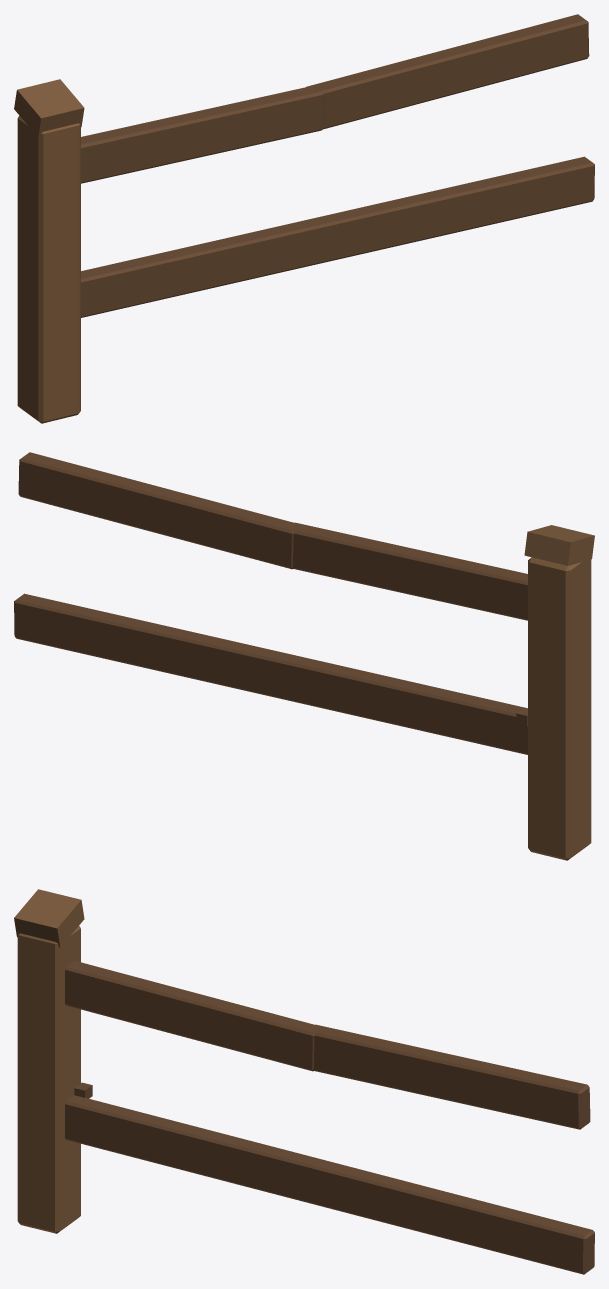
Rendered from SM_Fence_RusticRail_01_Straight.fbx.
The picture shows the model from 3 angles, top to bottom: view 1: azimuth 30°, elevation 25°; view 2: azimuth 150°, elevation 25°; view 3: azimuth 330°, elevation 25°; orthographic projection.
Parts seen in each view (by area): view 1: SM_Fence_RusticRail_01_Straight_RailBot, SM_Fence_RusticRail_01_Straight_Post, SM_Fence_RusticRail_01_Straight_RailTop1, SM_Fence_RusticRail_01_Straight_RailTop0, SM_Fence_RusticRail_01_Straight_Post_Cap; view 2: SM_Fence_RusticRail_01_Straight_RailBot, SM_Fence_RusticRail_01_Straight_Post, SM_Fence_RusticRail_01_Straight_RailTop1, SM_Fence_RusticRail_01_Straight_RailTop0, SM_Fence_RusticRail_01_Straight_Post_Cap; view 3: SM_Fence_RusticRail_01_Straight_RailBot, SM_Fence_RusticRail_01_Straight_Post, SM_Fence_RusticRail_01_Straight_RailTop1, SM_Fence_RusticRail_01_Straight_RailTop0, SM_Fence_RusticRail_01_Straight_Post_Cap.
Part boxes in pixels (x1,y1,x2,y2): SM_Fence_RusticRail_01_Straight_RailBot: (81, 156, 594, 317); SM_Fence_RusticRail_01_Straight_Post: (17, 116, 80, 423); SM_Fence_RusticRail_01_Straight_RailTop1: (306, 14, 589, 129); SM_Fence_RusticRail_01_Straight_RailTop0: (81, 86, 323, 183); SM_Fence_RusticRail_01_Straight_Post_Cap: (14, 79, 84, 137); SM_Fence_RusticRail_01_Straight_RailBot: (14, 593, 527, 754); SM_Fence_RusticRail_01_Straight_Post: (528, 557, 591, 860); SM_Fence_RusticRail_01_Straight_RailTop1: (18, 452, 297, 569); SM_Fence_RusticRail_01_Straight_RailTop0: (290, 522, 527, 620); SM_Fence_RusticRail_01_Straight_Post_Cap: (524, 525, 594, 565); SM_Fence_RusticRail_01_Straight_RailBot: (65, 1095, 594, 1274); SM_Fence_RusticRail_01_Straight_Post: (17, 926, 80, 1233); SM_Fence_RusticRail_01_Straight_RailTop1: (311, 1024, 590, 1129); SM_Fence_RusticRail_01_Straight_RailTop0: (65, 960, 318, 1071); SM_Fence_RusticRail_01_Straight_Post_Cap: (14, 889, 84, 947).
Bounding box in the file's own units: 2.12 × 1.15 × 0.1777.
